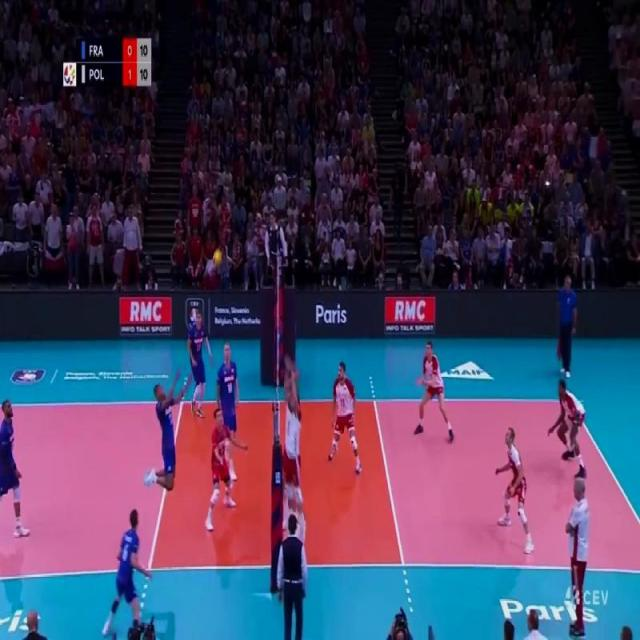volleyball: (212, 249, 224, 266)
